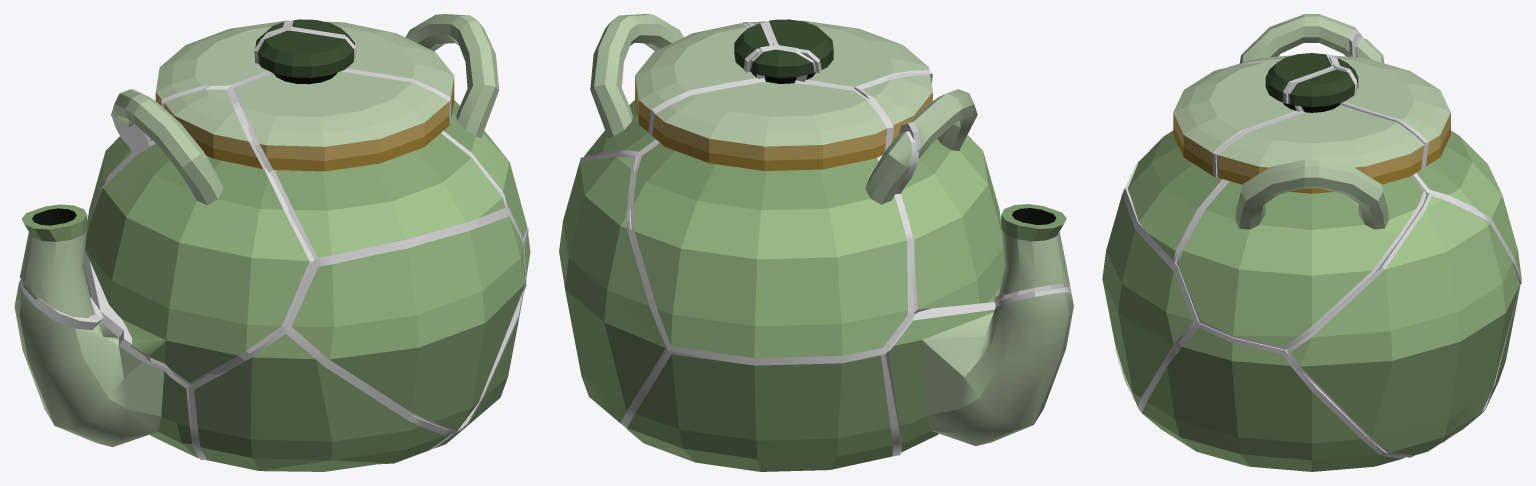
Rendered from v13_teapot.fbx.
3 views of the same model, side by side, from view 1: azimuth 30°, elevation 25°; view 2: azimuth 150°, elevation 25°; view 3: azimuth 270°, elevation 25° (orthographic). The views are drawn at different scales.
Visible parts, largest first — view 1: shard5, shard6, shard3, shard2, shard4, shard7, shard8, gold3, gold4, gold5, gold6, gold8 (+3 smaller); view 2: shard8, shard9, shard5, shard4, shard10, shard7, gold8, shard6, gold9, gold4, gold5, gold10 (+2 smaller); view 3: shard7, shard10, shard1, shard6, shard8, shard3, shard5, gold7, gold1, gold10, gold8, gold6 (+1 smaller).
Part boxes in pixels (x1=…): shard5: x1=20, y1=89, x2=309, y2=382; shard6: x1=235, y1=30, x2=505, y2=257; shard3: x1=291, y1=216, x2=525, y2=430; shard2: x1=194, y1=334, x2=448, y2=471; shard4: x1=14, y1=263, x2=197, y2=457; shard7: x1=292, y1=14, x2=526, y2=236; shard8: x1=87, y1=20, x2=288, y2=230; gold3: x1=284, y1=208, x2=526, y2=434; gold4: x1=19, y1=250, x2=198, y2=458; gold5: x1=19, y1=85, x2=314, y2=385; gold6: x1=234, y1=29, x2=506, y2=259; gold8: x1=86, y1=19, x2=313, y2=233; shard8: x1=633, y1=49, x2=911, y2=358; shard9: x1=627, y1=354, x2=892, y2=471; shard5: x1=862, y1=75, x2=1069, y2=309; shard4: x1=889, y1=292, x2=1073, y2=452; shard10: x1=559, y1=157, x2=665, y2=423; shard7: x1=584, y1=14, x2=769, y2=155; gold8: x1=627, y1=45, x2=918, y2=365; shard6: x1=751, y1=19, x2=929, y2=86; gold9: x1=621, y1=350, x2=900, y2=456; gold4: x1=885, y1=284, x2=1071, y2=452; gold5: x1=854, y1=72, x2=1069, y2=314; gold10: x1=580, y1=152, x2=667, y2=426; shard7: x1=1179, y1=69, x2=1424, y2=346; shard10: x1=1290, y1=196, x2=1519, y2=455; shard1: x1=1142, y1=328, x2=1401, y2=471; shard6: x1=1128, y1=53, x2=1331, y2=260; shard8: x1=1335, y1=38, x2=1521, y2=277; shard3: x1=1102, y1=195, x2=1193, y2=407; shard5: x1=1232, y1=14, x2=1357, y2=65; gold7: x1=1176, y1=68, x2=1426, y2=349; gold1: x1=1138, y1=323, x2=1405, y2=458; gold10: x1=1287, y1=193, x2=1519, y2=457; gold8: x1=1329, y1=37, x2=1521, y2=284; gold6: x1=1127, y1=54, x2=1334, y2=263.
Bounding box in the file's own units: 13.51 × 10.16 × 11.07.
